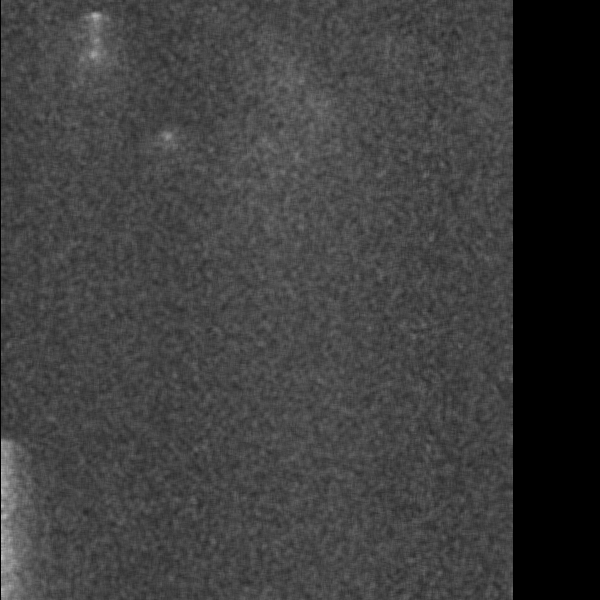spark: (314, 163, 352, 200)
